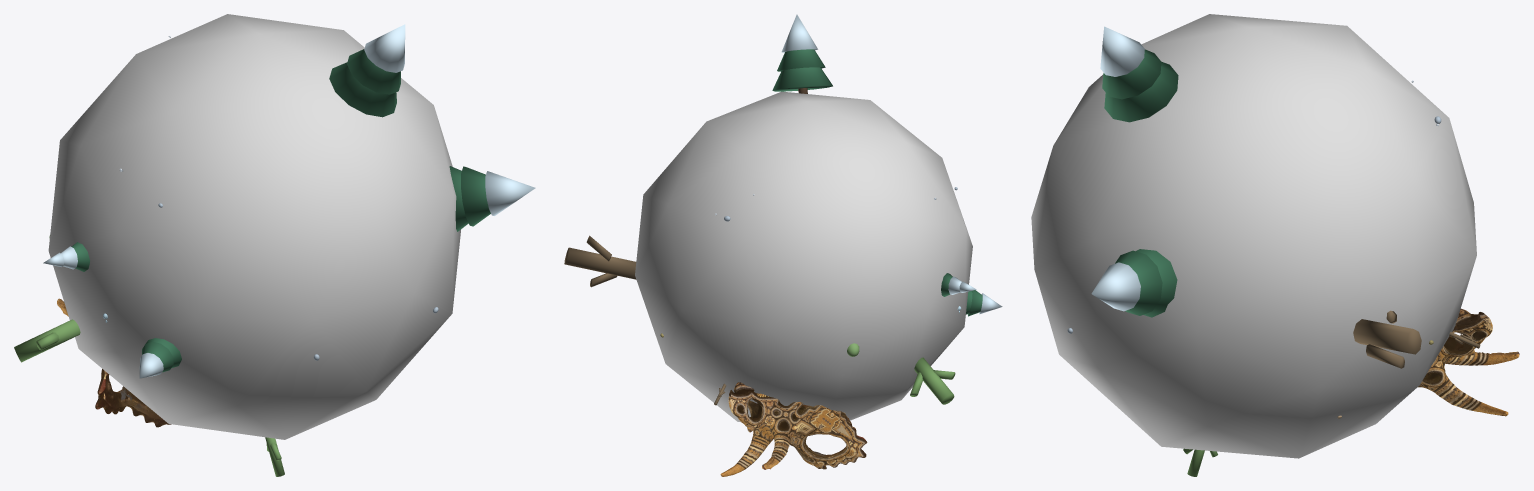
The model's file is IcePlanet.glb.
The picture shows the model from 3 angles, left to right: view 1: azimuth 30°, elevation 25°; view 2: azimuth 150°, elevation 25°; view 3: azimuth 270°, elevation 25°; orthographic projection. The views are drawn at different scales.
Parts seen in each view (by area): view 1: IceDesertPlanet, Proto_Pine1.002, Proto_Pine1.003, Proto_Pine1.001, Proto_Cactus1.001, Model_material0_0.001, Proto_Pine2.001; view 2: IceDesertPlanet, Model, Model_material0_0.001, Proto_Pine1.002, Proto_DeadTree.001, Proto_Cactus1.001, Proto_Pine1.001, Proto_Pine2.001; view 3: IceDesertPlanet, Proto_Pine1.002, Proto_Pine1.003, Model, Proto_DeadTree.001.
Part boxes in pixels (left/top/right/bottom): IceDesertPlanet: left=48, top=14, right=460, bottom=439; Proto_Pine1.002: left=329, top=24, right=405, bottom=117; Proto_Pine1.003: left=449, top=166, right=535, bottom=231; Proto_Pine1.001: left=139, top=338, right=181, bottom=378; Proto_Cactus1.001: left=14, top=319, right=80, bottom=362; Model_material0_0.001: left=57, top=303, right=168, bottom=426; Proto_Pine2.001: left=43, top=242, right=89, bottom=271; IceDesertPlanet: left=635, top=91, right=972, bottom=421; Model: left=728, top=382, right=844, bottom=475; Model_material0_0.001: left=720, top=398, right=867, bottom=476; Proto_Pine1.002: left=772, top=14, right=832, bottom=93; Proto_DeadTree.001: left=564, top=235, right=636, bottom=287; Proto_Cactus1.001: left=910, top=357, right=955, bottom=404; Proto_Pine1.001: left=966, top=290, right=1002, bottom=316; Proto_Pine2.001: left=941, top=273, right=976, bottom=296; IceDesertPlanet: left=1031, top=14, right=1476, bottom=458; Proto_Pine1.002: left=1100, top=26, right=1178, bottom=122; Proto_Pine1.003: left=1091, top=249, right=1177, bottom=317; Model: left=1418, top=308, right=1519, bottom=414; Proto_DeadTree.001: left=1353, top=310, right=1421, bottom=368.
Bounding box in the file's own units: 2.34 × 2.37 × 2.12.
Materials: 14 (1 with a texture image).
